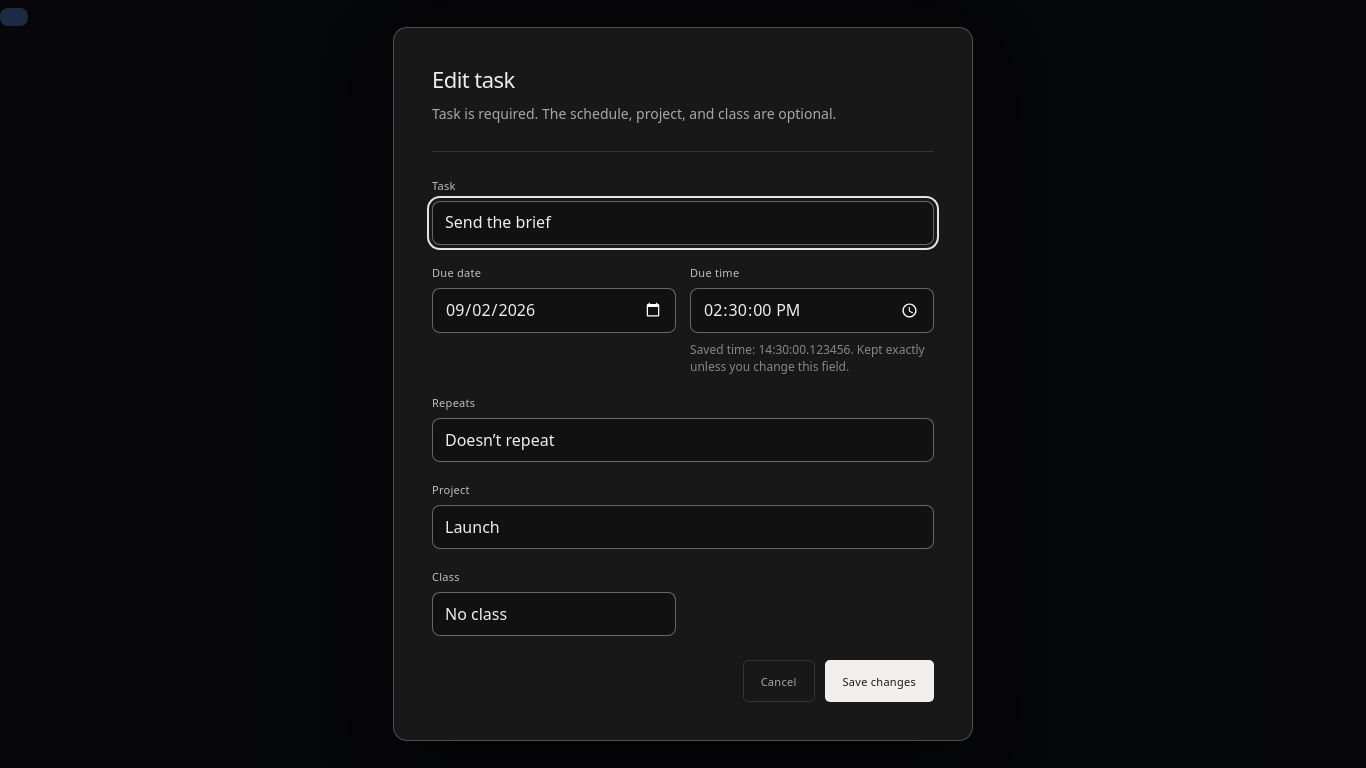
Test: TodoFormDialog edit and reschedule modes › preserves values on failure and uses the fallback focus when the opener is gone
The width and height of the screenshot is (1366, 768).
Later steps or results of the test are not shown.
Replace the text in the field labelled "Task" with "Try": (683, 223) [432,201,934,245]
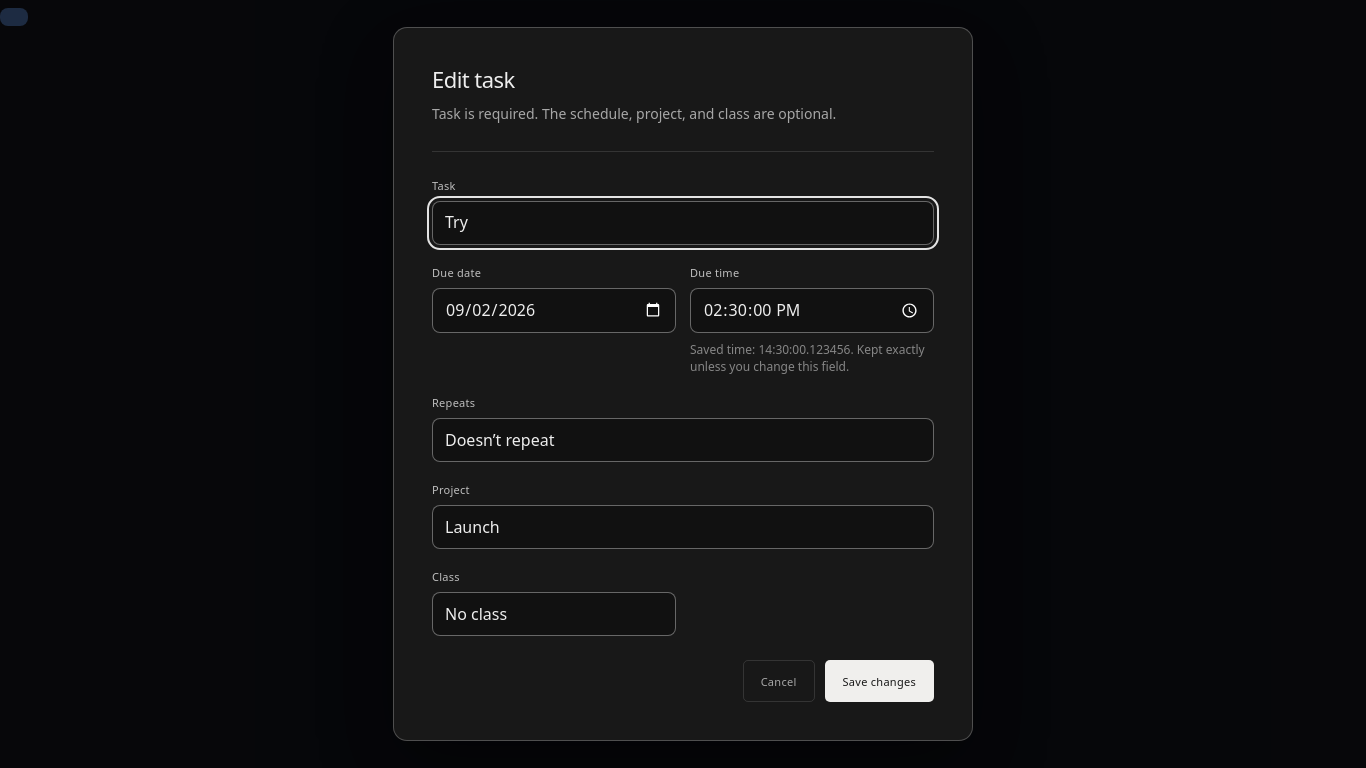
Click the button "Save changes": (879, 681) [824,660,934,702]
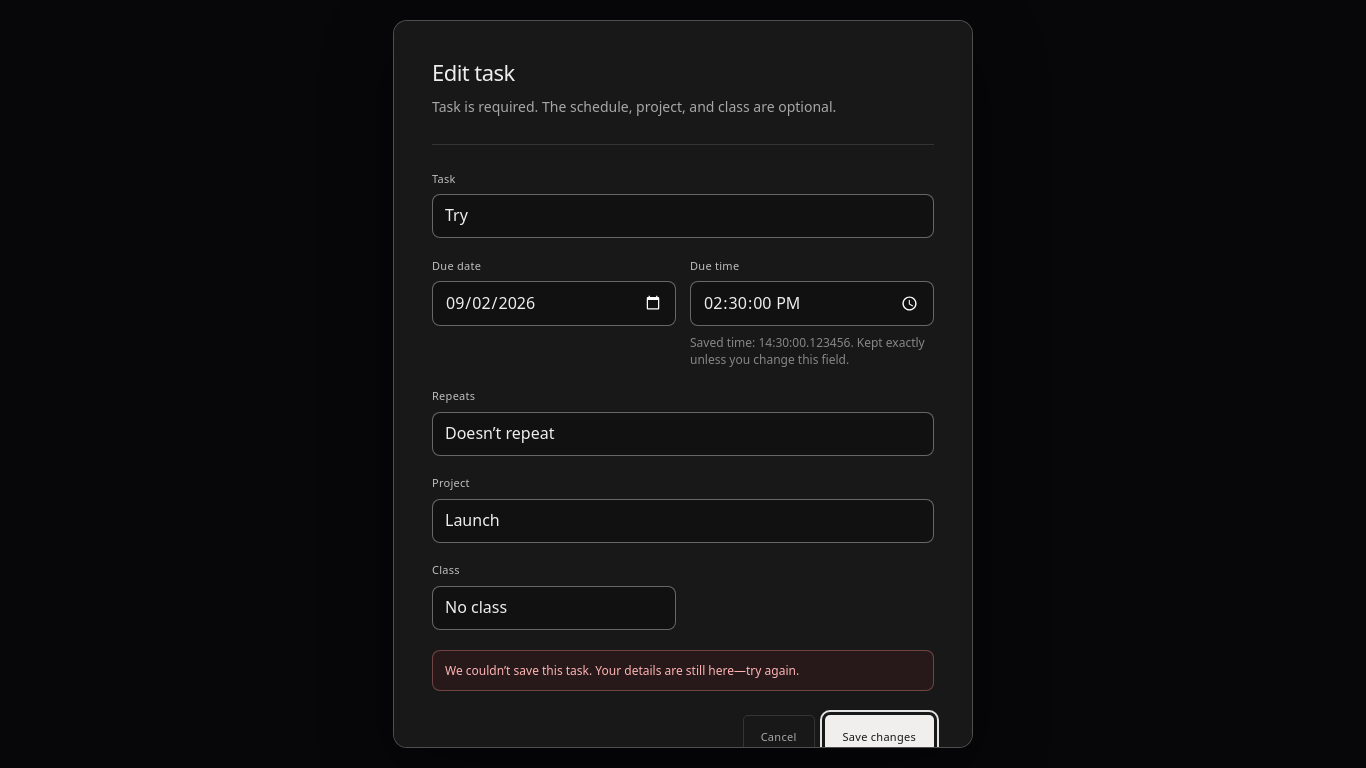
Check: the text "We couldn’t save this task. Your details are still here—try again." is shown, box [432,650,934,691]
